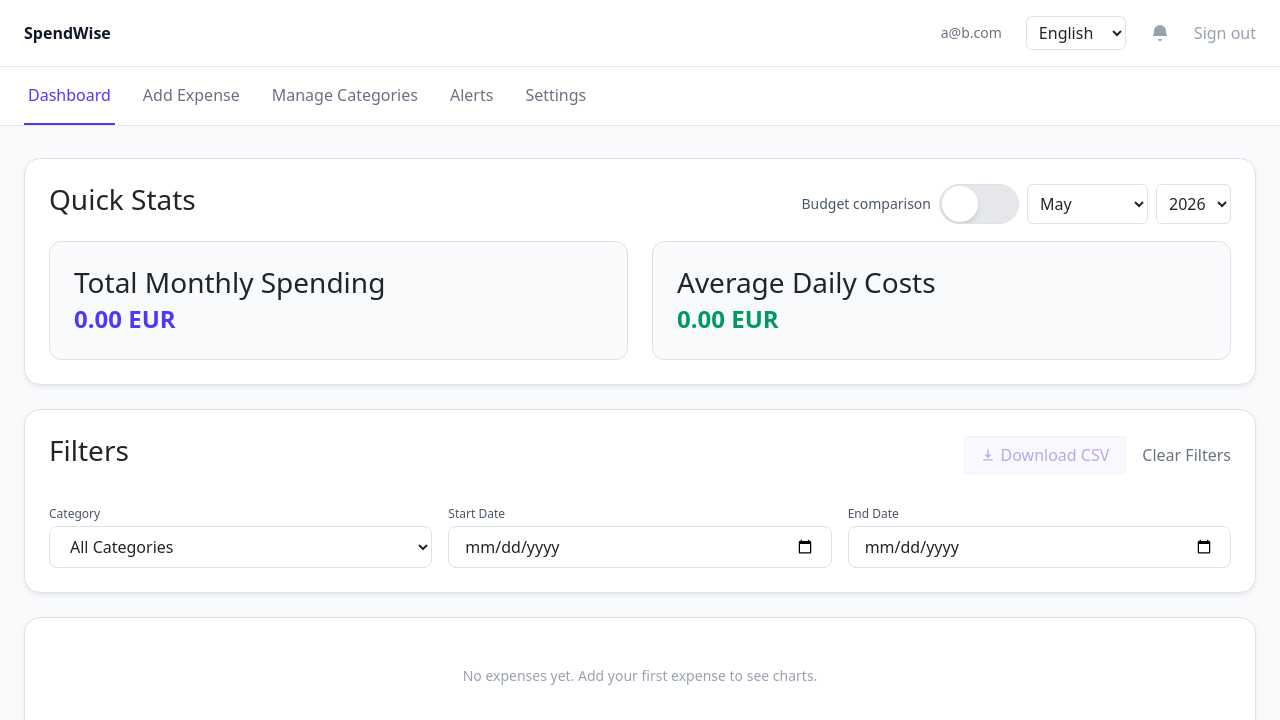
DashboardPage › shows an inline error when the budget comparison request fails
This screenshot has width=1280, height=720.
Click the switch named "budget comparison" at (979, 204), box [939,184,1019,224]
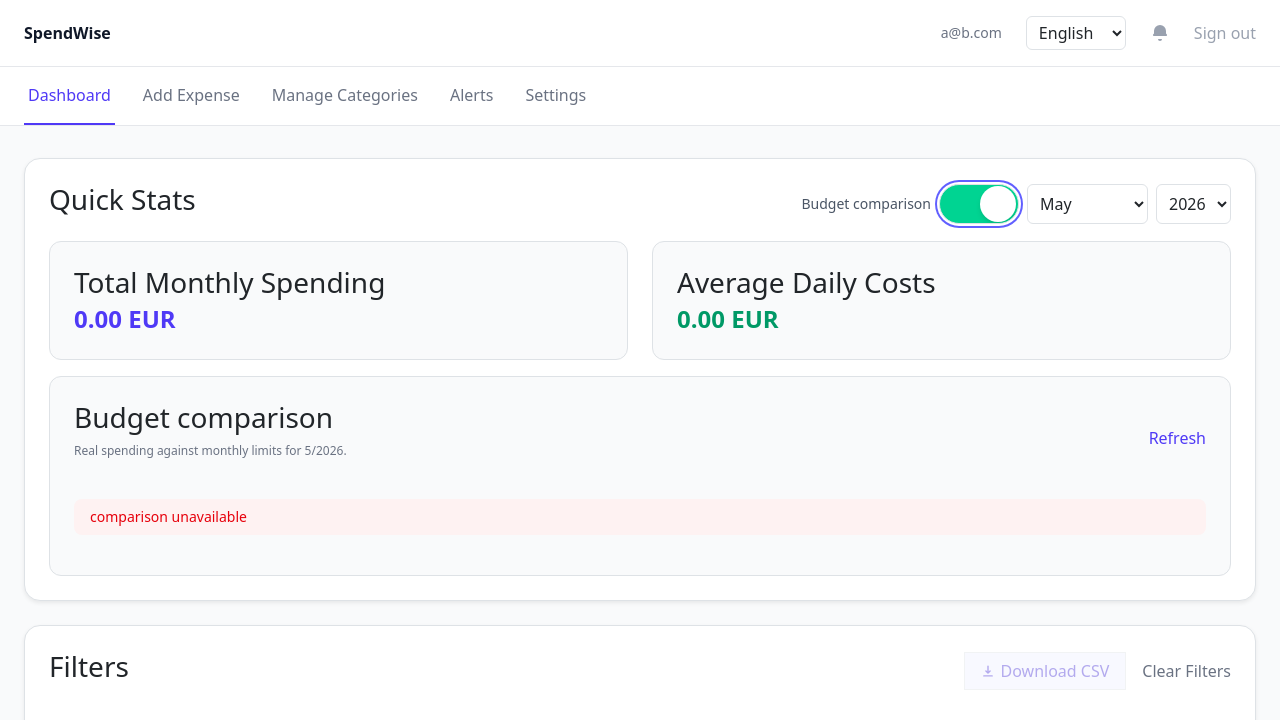
Result: the text "comparison unavailable" is shown at [74,499,1206,535]
